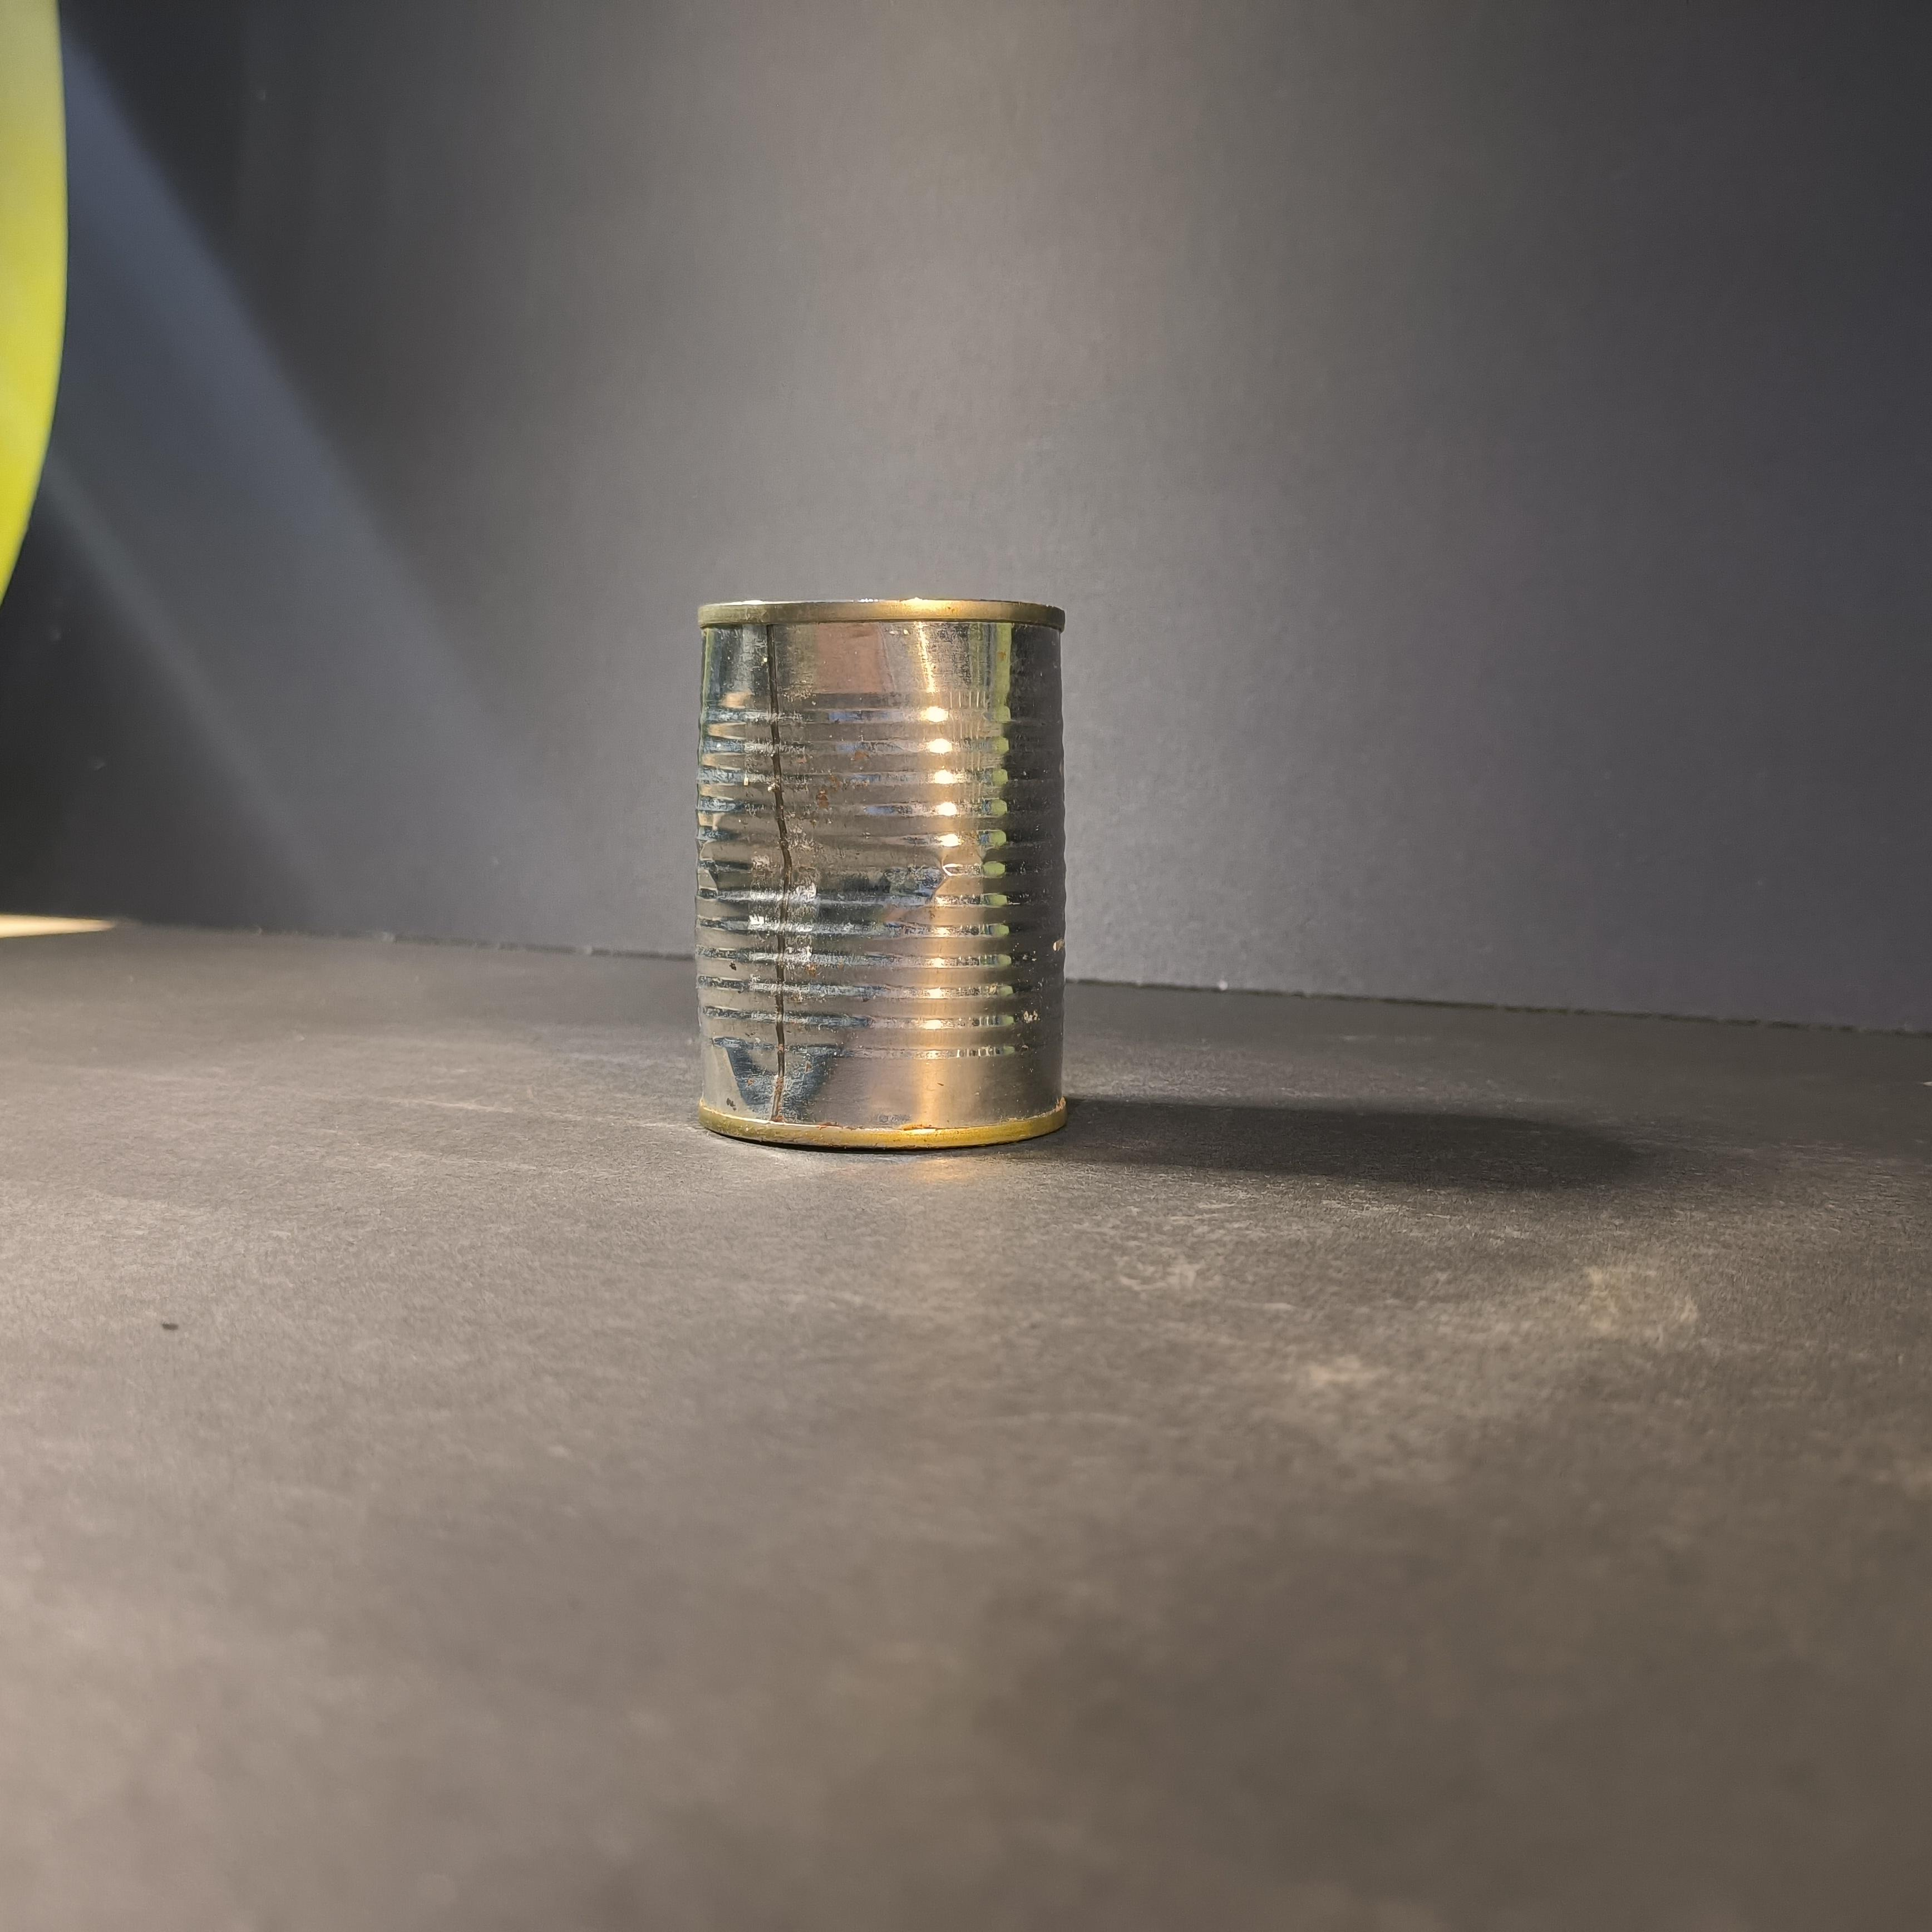Minor Defect: (686, 589, 1072, 1159)
